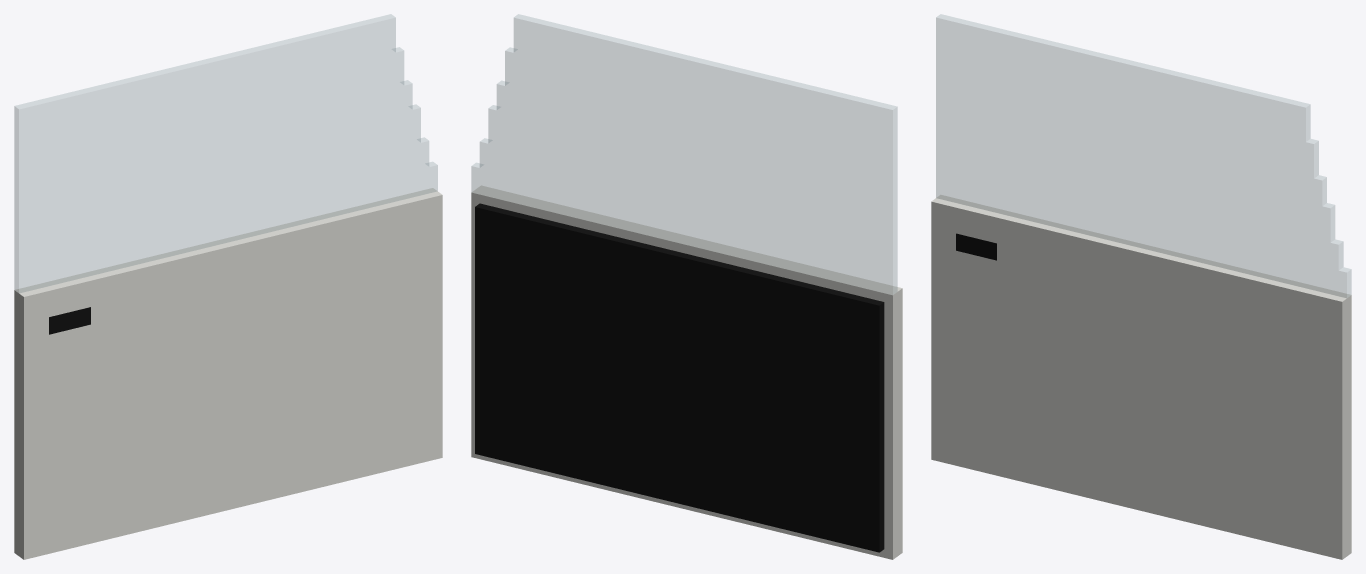
Rendered from tanker_truck_door.glb.
3 views of the same model, side by side, from view 1: azimuth 30°, elevation 25°; view 2: azimuth 150°, elevation 25°; view 3: azimuth 330°, elevation 25° (orthographic). The views are drawn at different scales.
Parts seen in each view (by area): view 1: body:compound; view 2: body:compound; view 3: body:compound.
Boxes of the visible parts, x1,y1,x2,y2 form: body:compound: (14,14,442,559); body:compound: (471,14,902,559); body:compound: (931,14,1351,559).
Size of the model in its own units: 1.56 by 1.59 by 0.0938.
